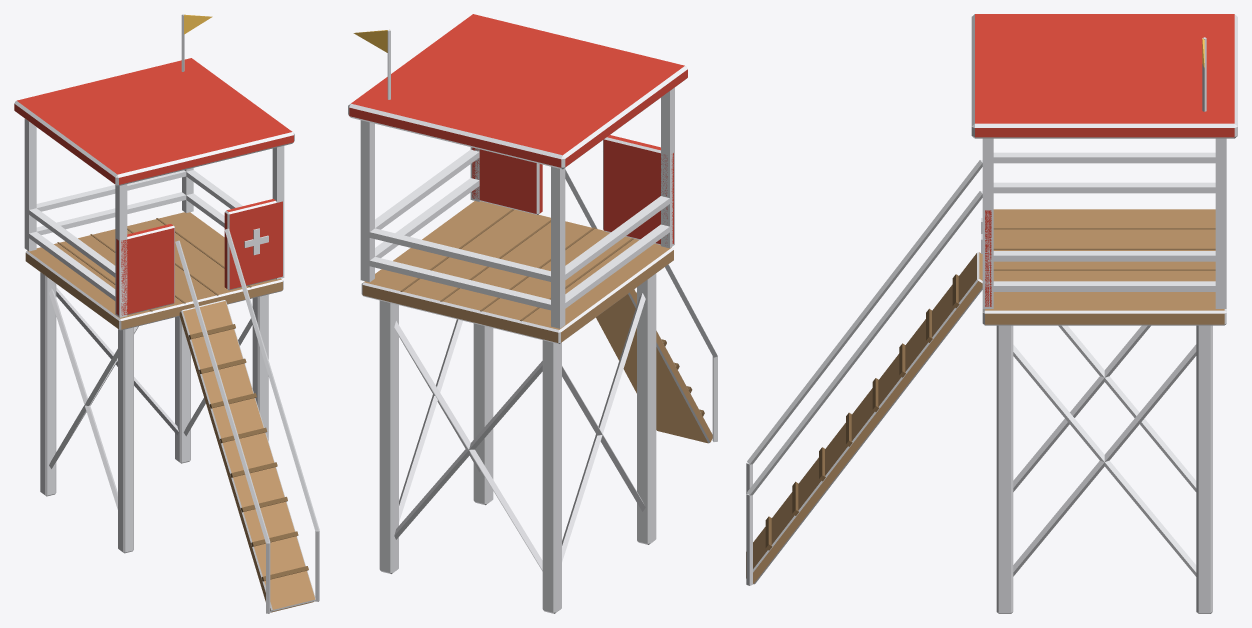
The model's file is lifeguardTower.glb.
3 renders of one model, left to right at view 1: azimuth 30°, elevation 25°; view 2: azimuth 150°, elevation 25°; view 3: azimuth 270°, elevation 25°, orthographic. The views are drawn at different scales.
Parts seen in each view (by area): view 1: lifeguardTower-m; view 2: lifeguardTower-m; view 3: lifeguardTower-m.
Boxes of the visible parts, bbox=[...] form: lifeguardTower-m: bbox=[14, 14, 319, 613]; lifeguardTower-m: bbox=[348, 14, 717, 613]; lifeguardTower-m: bbox=[746, 14, 1237, 613].
Size of the model in its own units: 2.5 by 5.72 by 4.43.
